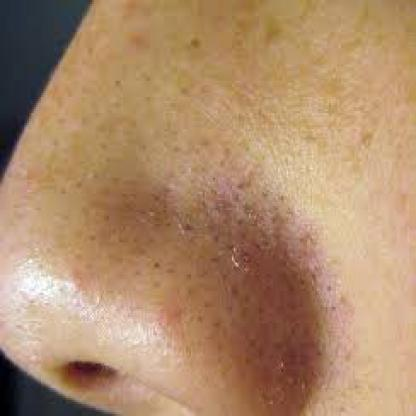darkspot: (67, 105, 375, 404), (186, 26, 206, 59)
